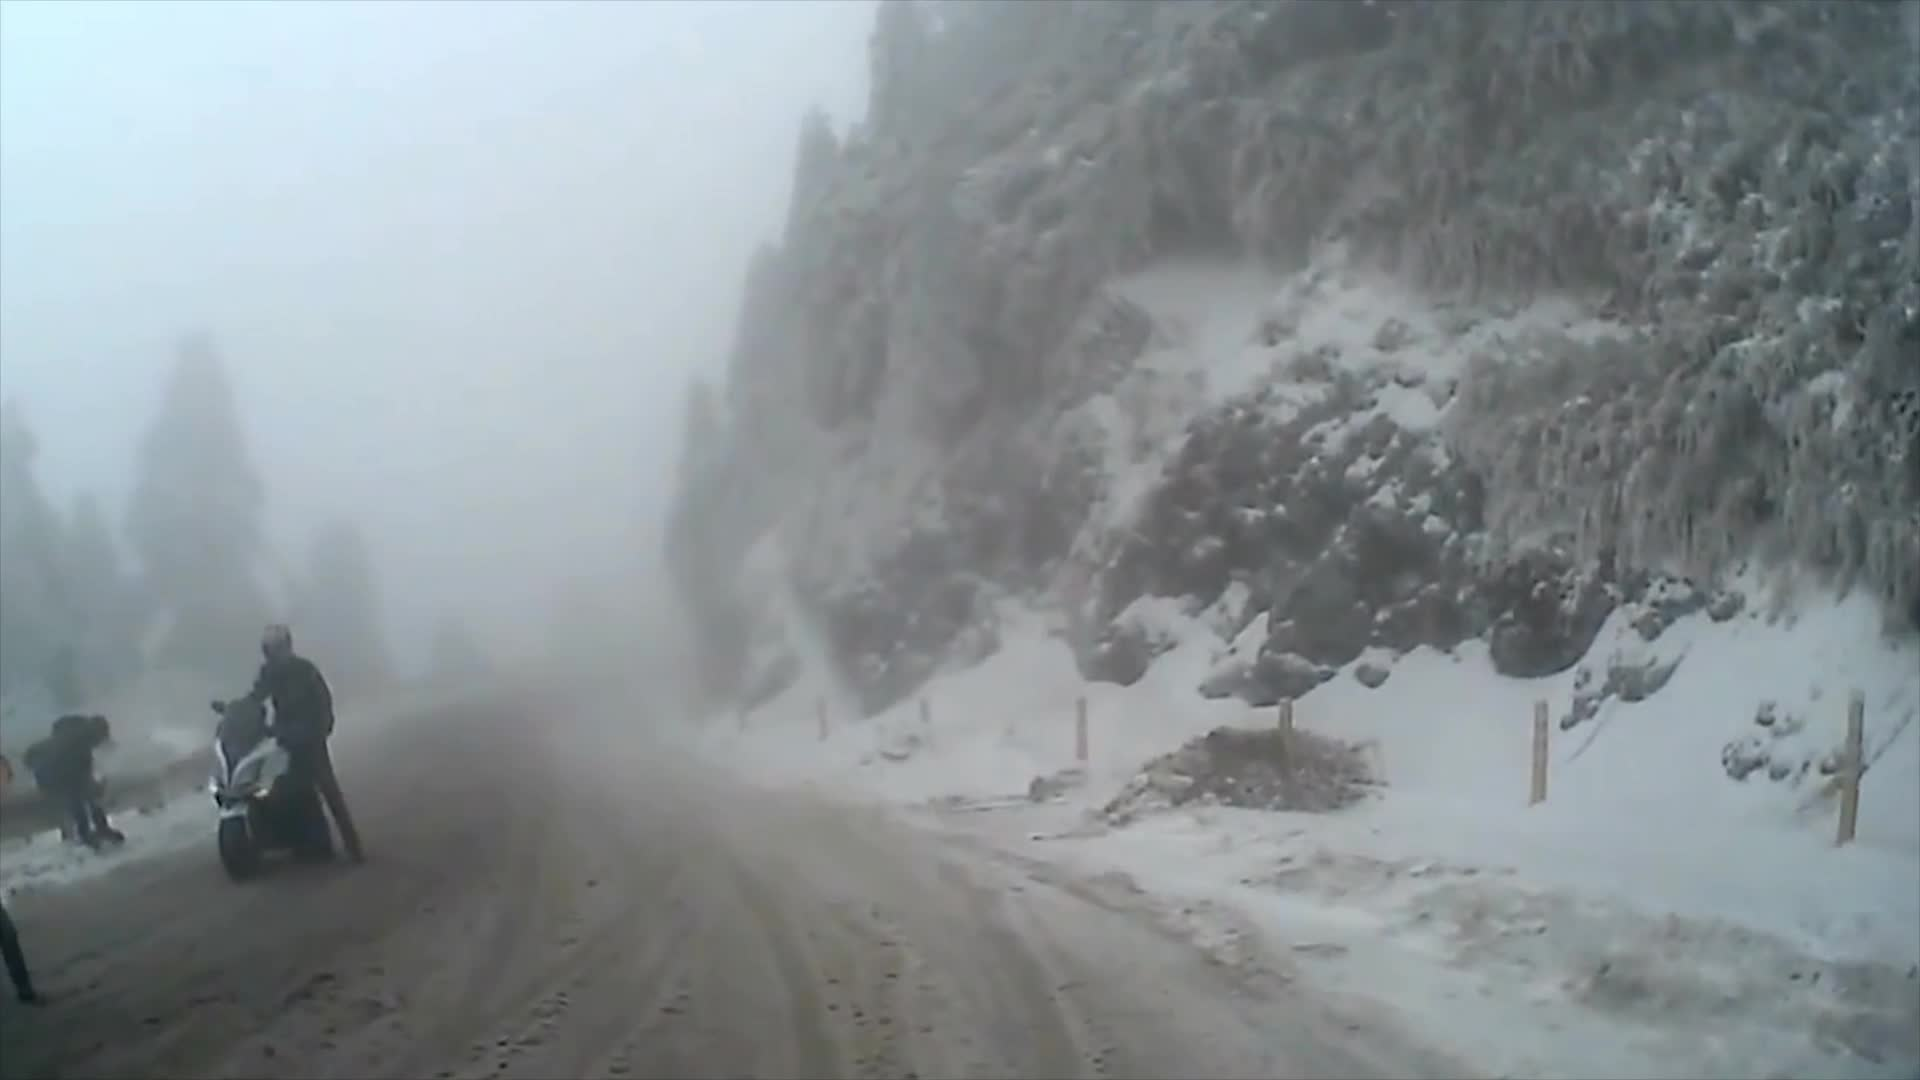pedestrian: (226, 624, 373, 877), (26, 720, 122, 858)
